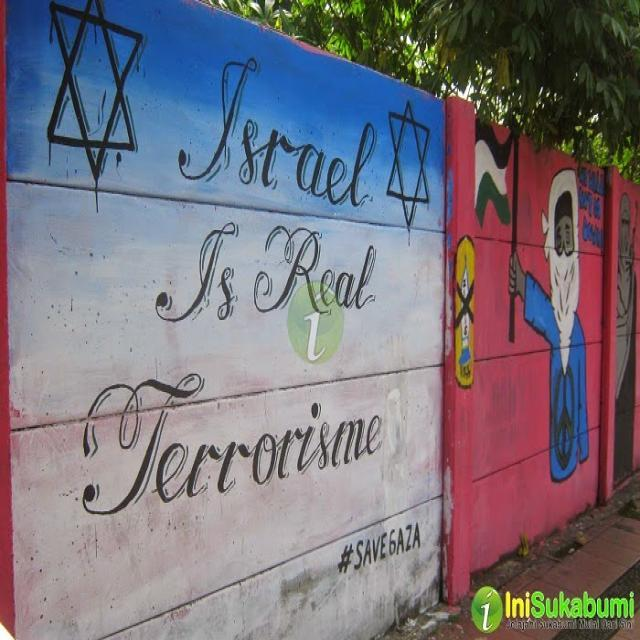-: (44, 0, 433, 522), (474, 112, 604, 490), (614, 190, 638, 490), (341, 526, 424, 578), (454, 228, 476, 391)
